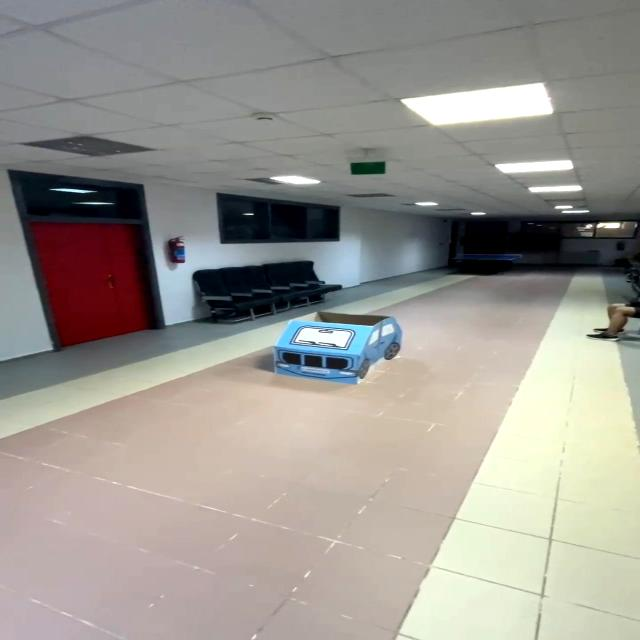blue_car: (256, 305, 418, 404)
